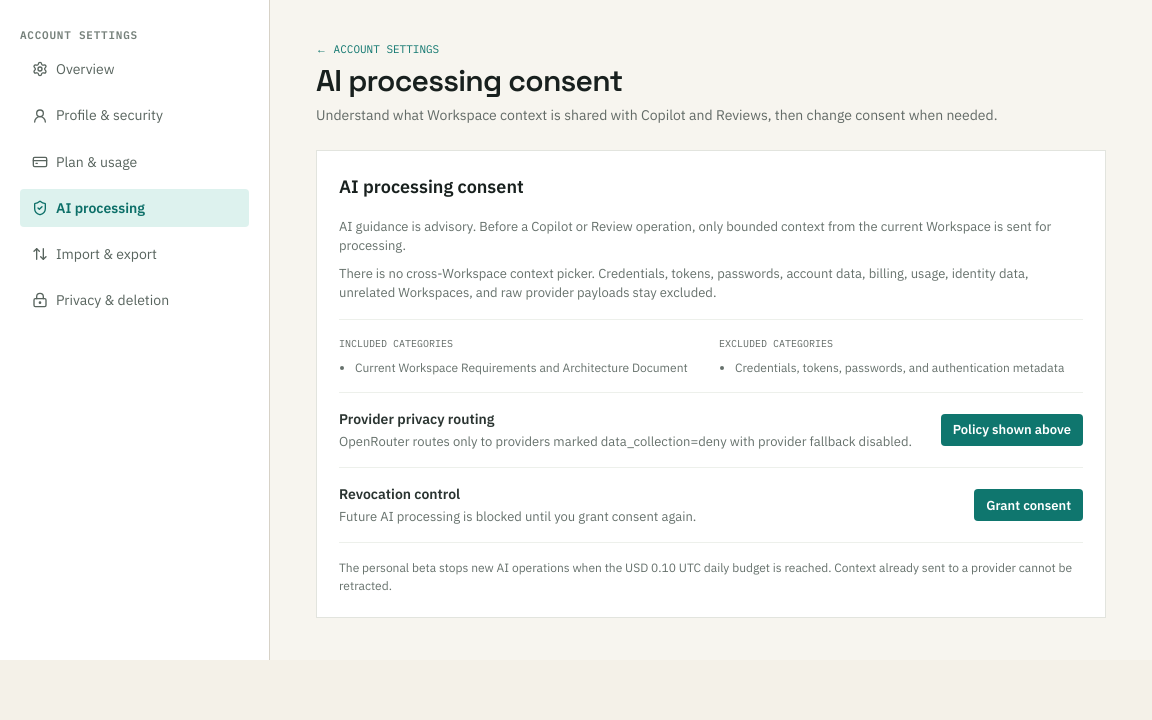
AccountDetail › shows the bounded consent policy and lets the user grant consent
Check: the list item "Current Workspace Requirements and Architecture Document" is shown, box [355,359,703,376]
Check: the list item "Credentials, tokens, passwords, and authentication metadata" is shown, box [735,359,1083,376]
Click the button "Grant consent" at [1029, 505], box [974,489,1083,521]
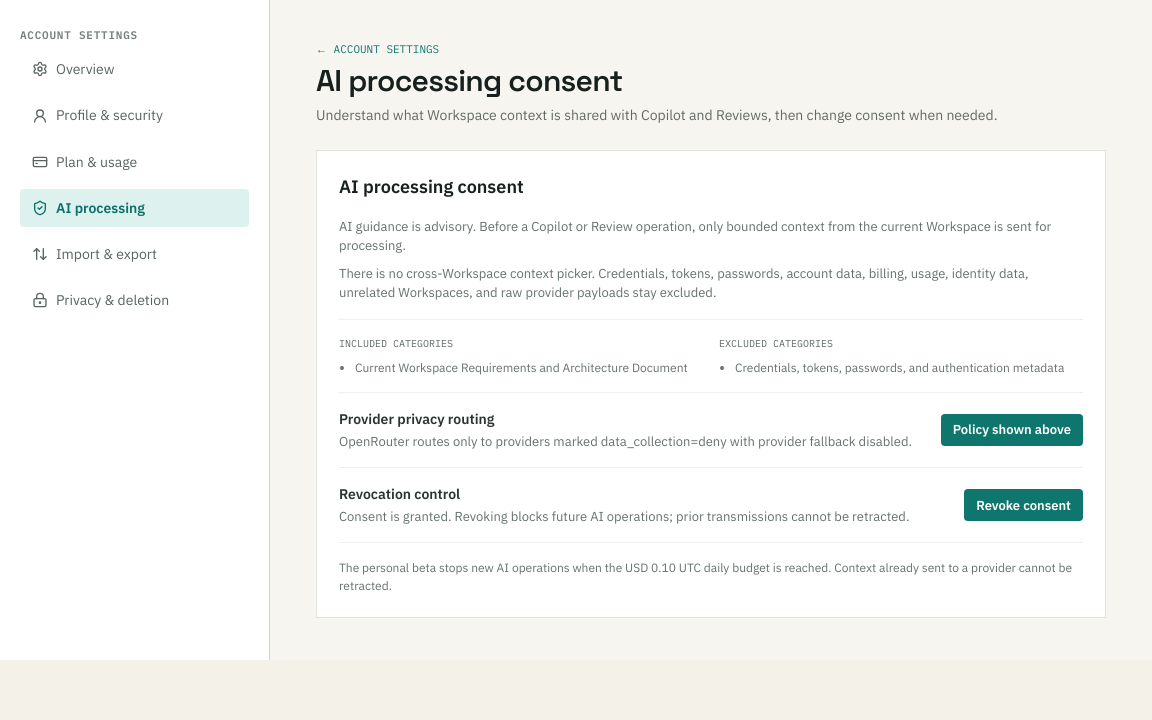
Check: the button "Revoke consent" is shown, box [964,489,1083,521]
